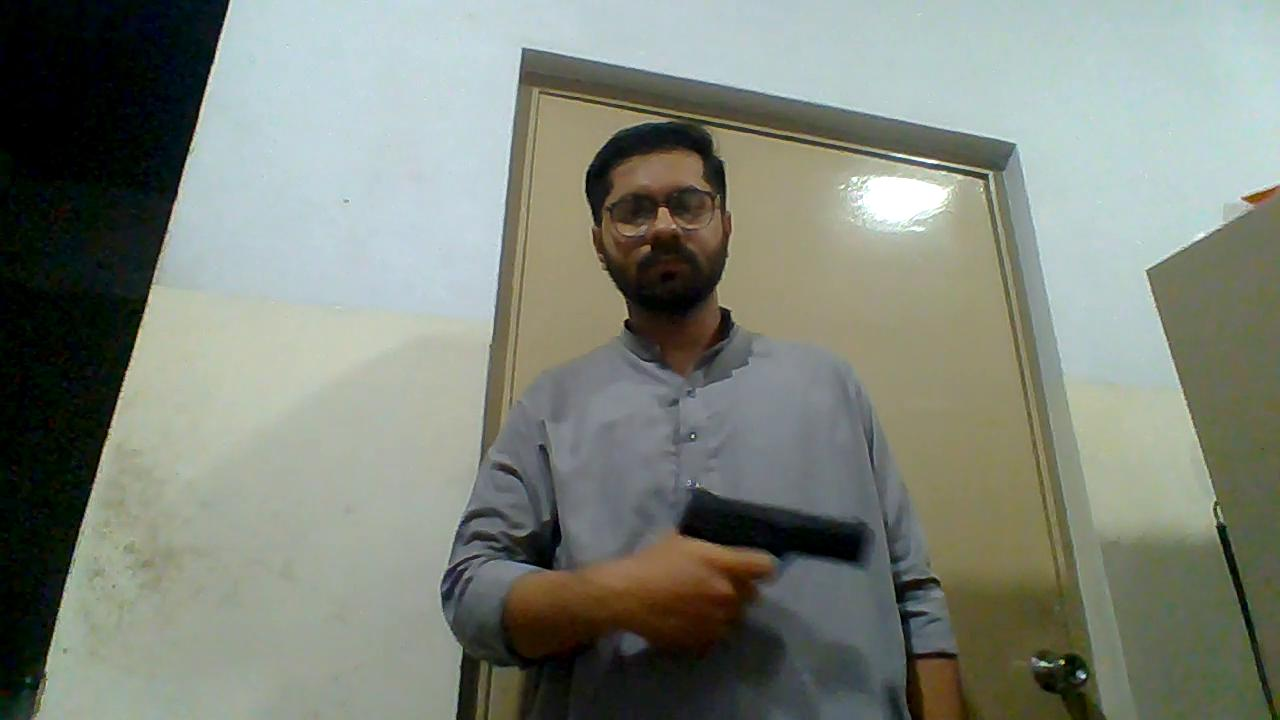criminal: (440, 114, 964, 720)
weapon: (667, 490, 886, 579)
